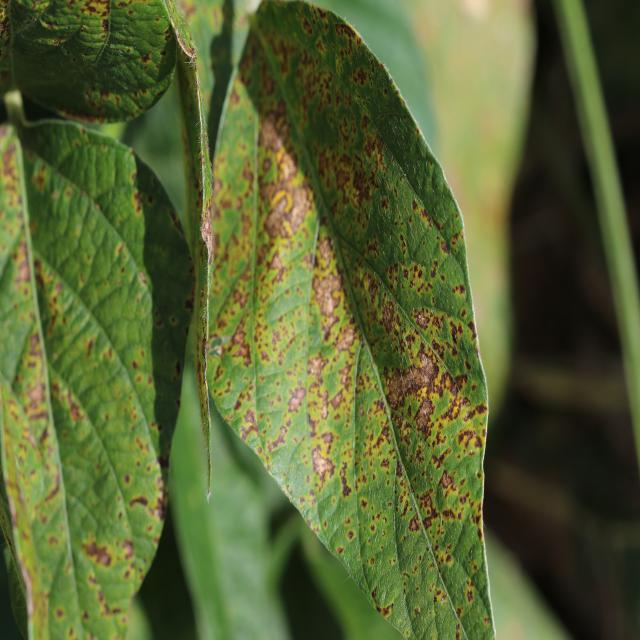Bacterial_Blight: (395, 341, 480, 462), (279, 24, 347, 148), (258, 102, 315, 244), (245, 361, 310, 473), (417, 443, 483, 548), (253, 226, 311, 327), (305, 331, 353, 442), (323, 132, 369, 224), (15, 338, 52, 440), (388, 353, 439, 422), (309, 413, 344, 489), (395, 252, 438, 304), (312, 263, 343, 327), (415, 486, 446, 529), (259, 114, 286, 151), (82, 538, 115, 568), (200, 203, 214, 264), (230, 320, 250, 354), (387, 372, 406, 406), (334, 326, 357, 354), (14, 251, 31, 284), (334, 22, 357, 45), (81, 0, 110, 18), (287, 385, 306, 412), (381, 299, 396, 331), (352, 64, 370, 88), (232, 284, 250, 308), (448, 319, 464, 346), (307, 355, 324, 379), (268, 250, 285, 273), (413, 310, 430, 330), (452, 373, 468, 394), (128, 495, 149, 509), (376, 602, 394, 618), (408, 515, 421, 532), (467, 320, 477, 340), (302, 17, 313, 34), (453, 284, 466, 296), (440, 238, 449, 254), (140, 52, 151, 64), (466, 588, 473, 603), (381, 457, 390, 468), (346, 529, 355, 540), (360, 498, 368, 509)
Soybean: (210, 0, 495, 640), (0, 119, 195, 638), (8, 0, 176, 123)
